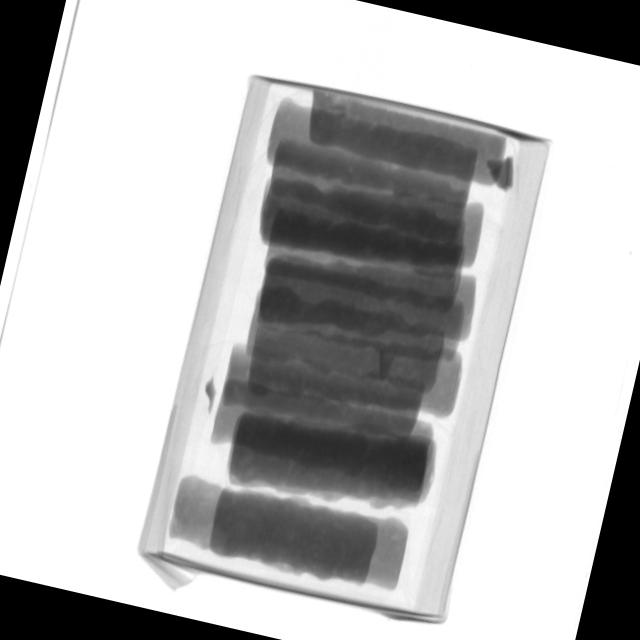ym: (484, 151, 521, 197), (374, 339, 402, 384), (198, 373, 222, 419)
